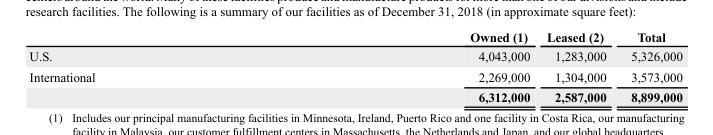table: (28, 29, 681, 104)
table column: (281, 29, 537, 104), (28, 29, 281, 104), (537, 29, 617, 104), (617, 29, 681, 104)
table column header: (28, 29, 681, 46)
table row: (28, 46, 681, 66), (28, 66, 681, 86), (28, 86, 681, 104), (28, 29, 681, 46)
